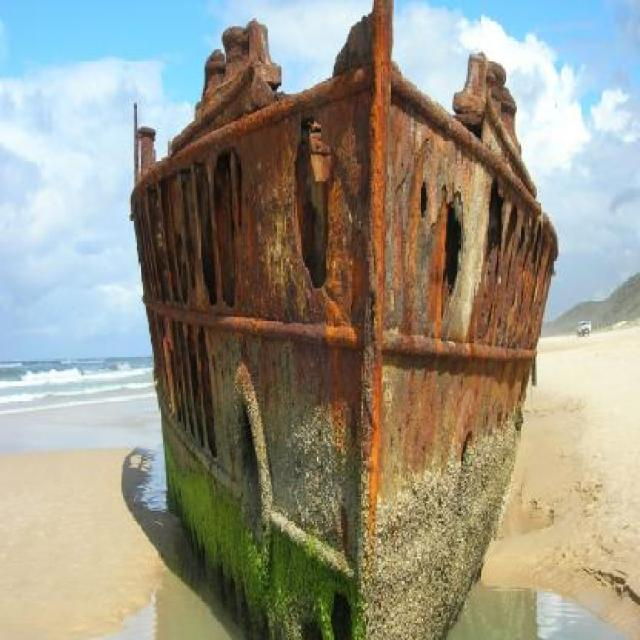corrosion: (131, 1, 560, 640)
